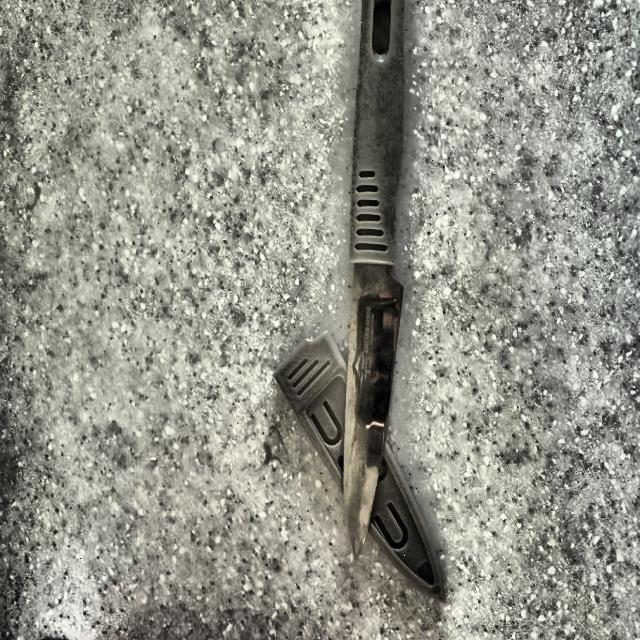knife: (339, 0, 406, 566)
